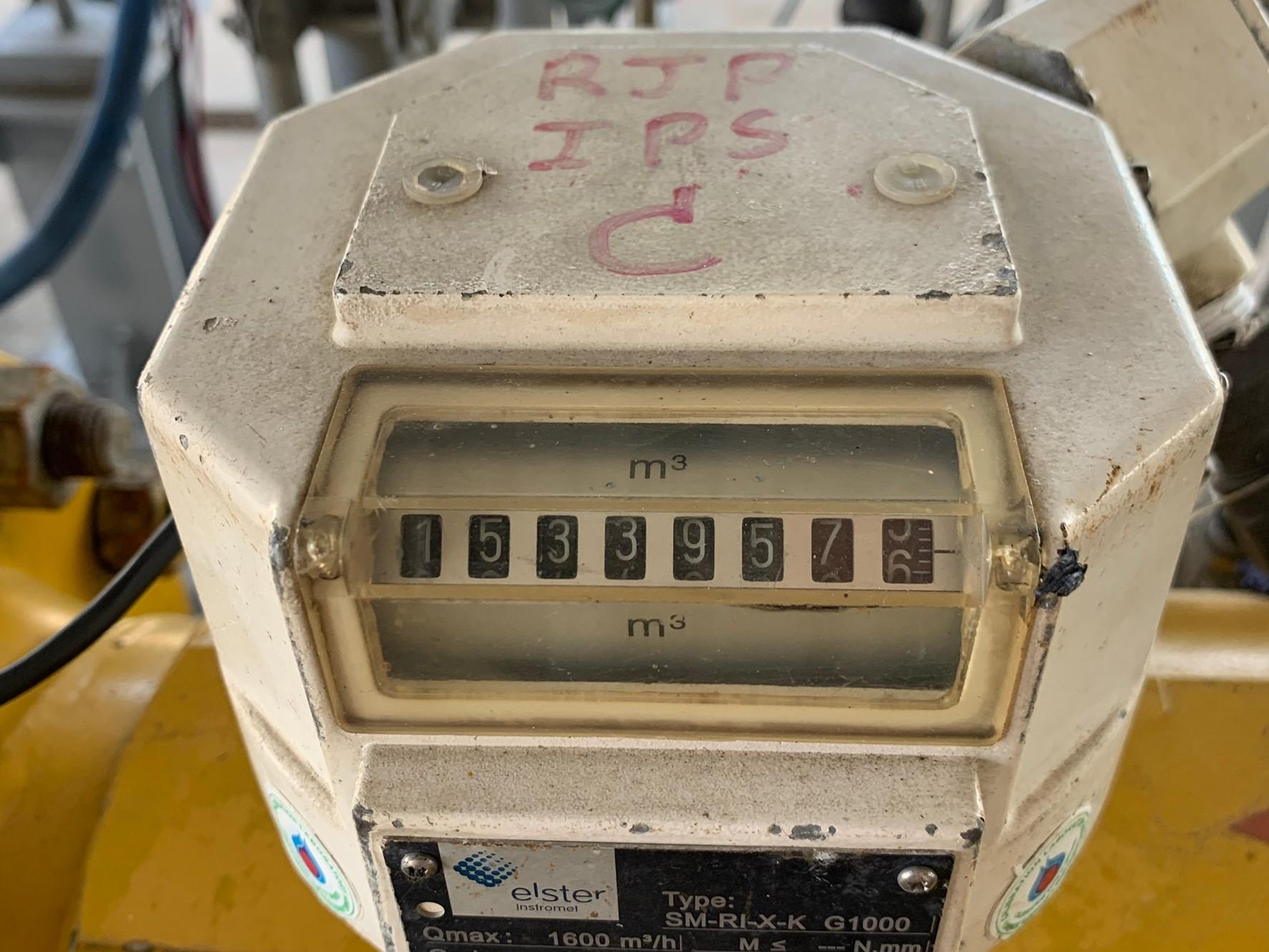analog_dial: (372, 508, 971, 592)
